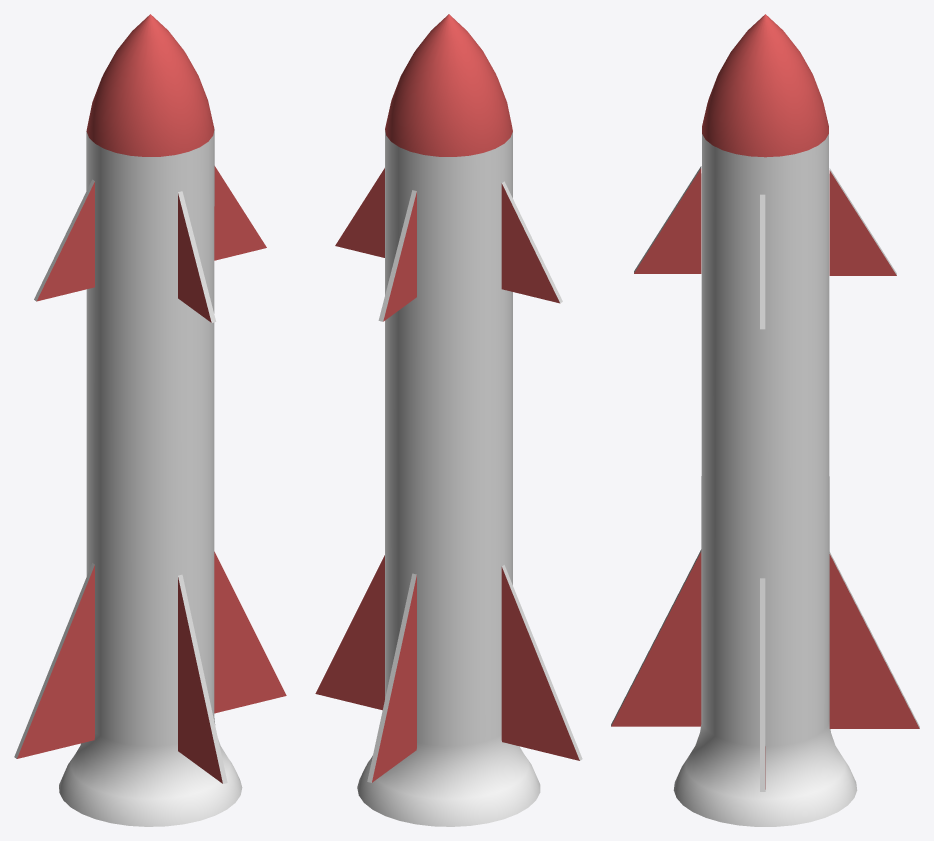
3 views of the same model, side by side, from view 1: azimuth 30°, elevation 25°; view 2: azimuth 150°, elevation 25°; view 3: azimuth 270°, elevation 25° (orthographic).
Visible parts, largest first — view 1: ROCKETAR; view 2: ROCKETAR; view 3: ROCKETAR.
Boxes of the visible parts, left/top/right/bottom form: ROCKETAR: left=14, top=14, right=286, bottom=826; ROCKETAR: left=315, top=14, right=582, bottom=826; ROCKETAR: left=611, top=14, right=919, bottom=826.
Bounding box in the file's own units: 3.61 × 10 × 3.61.
